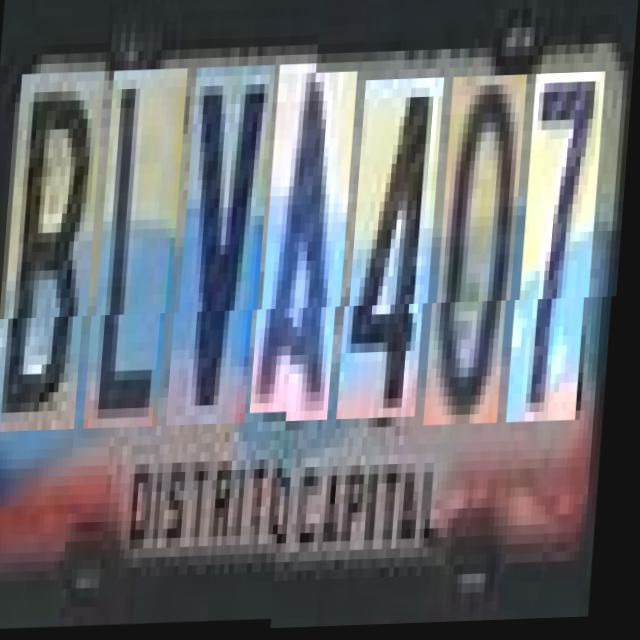4: (348, 81, 446, 422)
7: (518, 76, 607, 426)
A: (260, 74, 359, 424)
B: (1, 81, 106, 442)
L: (94, 79, 188, 439)
O: (435, 79, 529, 428)
V: (177, 76, 276, 436)
